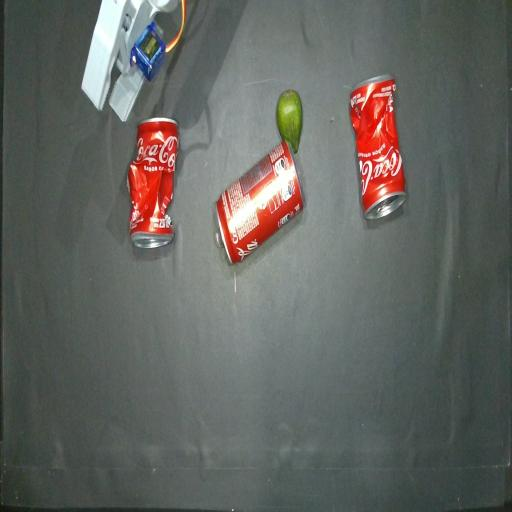higo: (276, 90, 302, 153)
lata: (216, 141, 303, 264)
lata_defectuoso: (350, 75, 405, 219), (129, 118, 179, 246)
